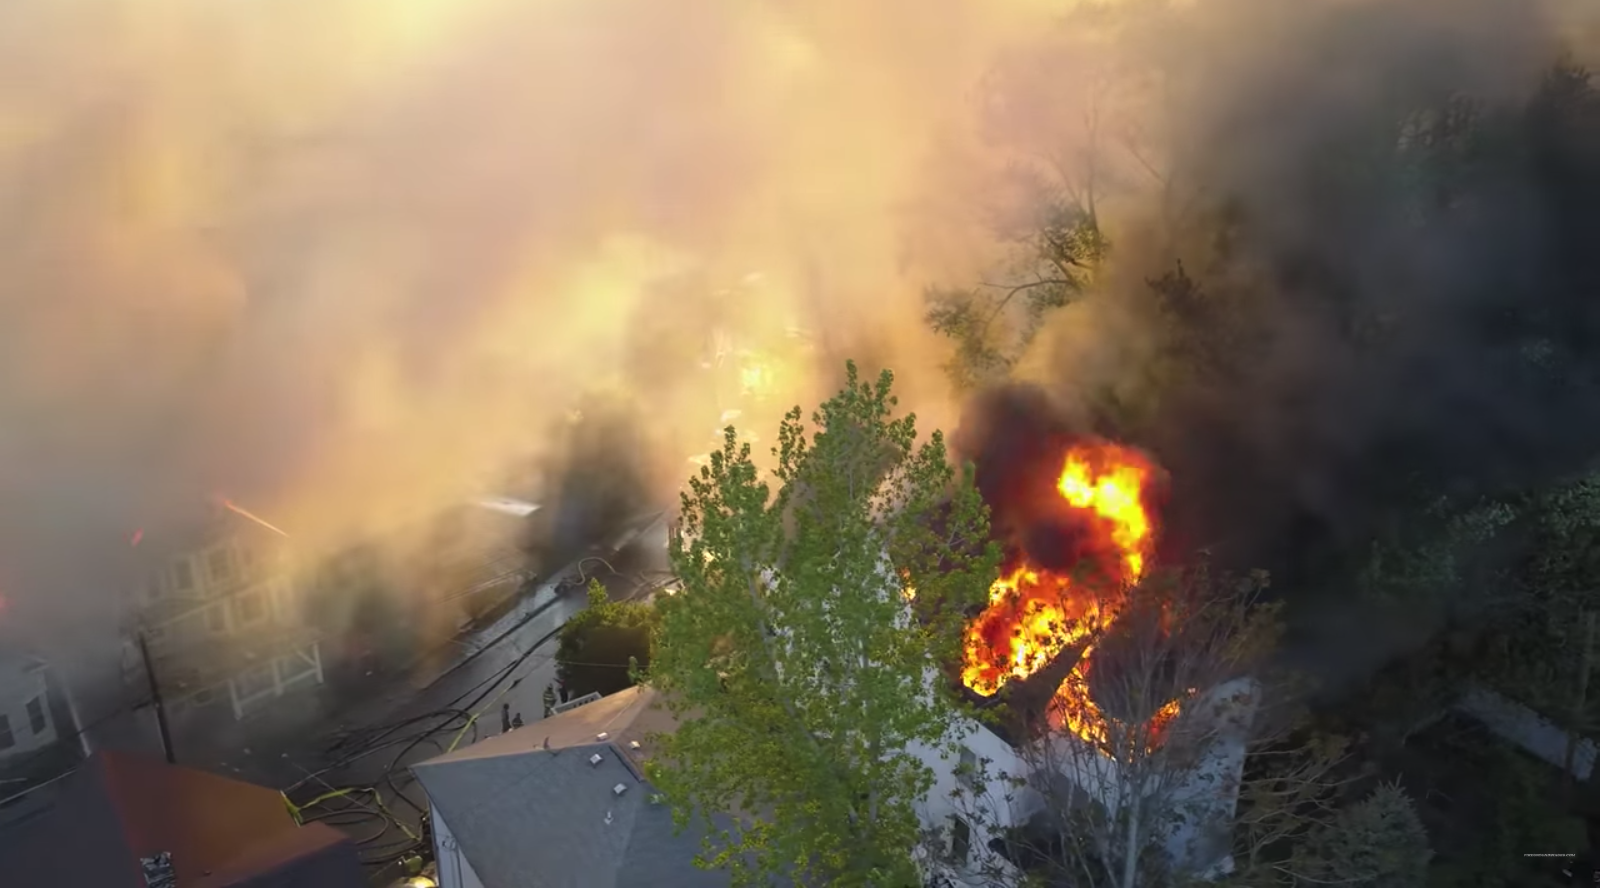fire: (982, 456, 1184, 738)
